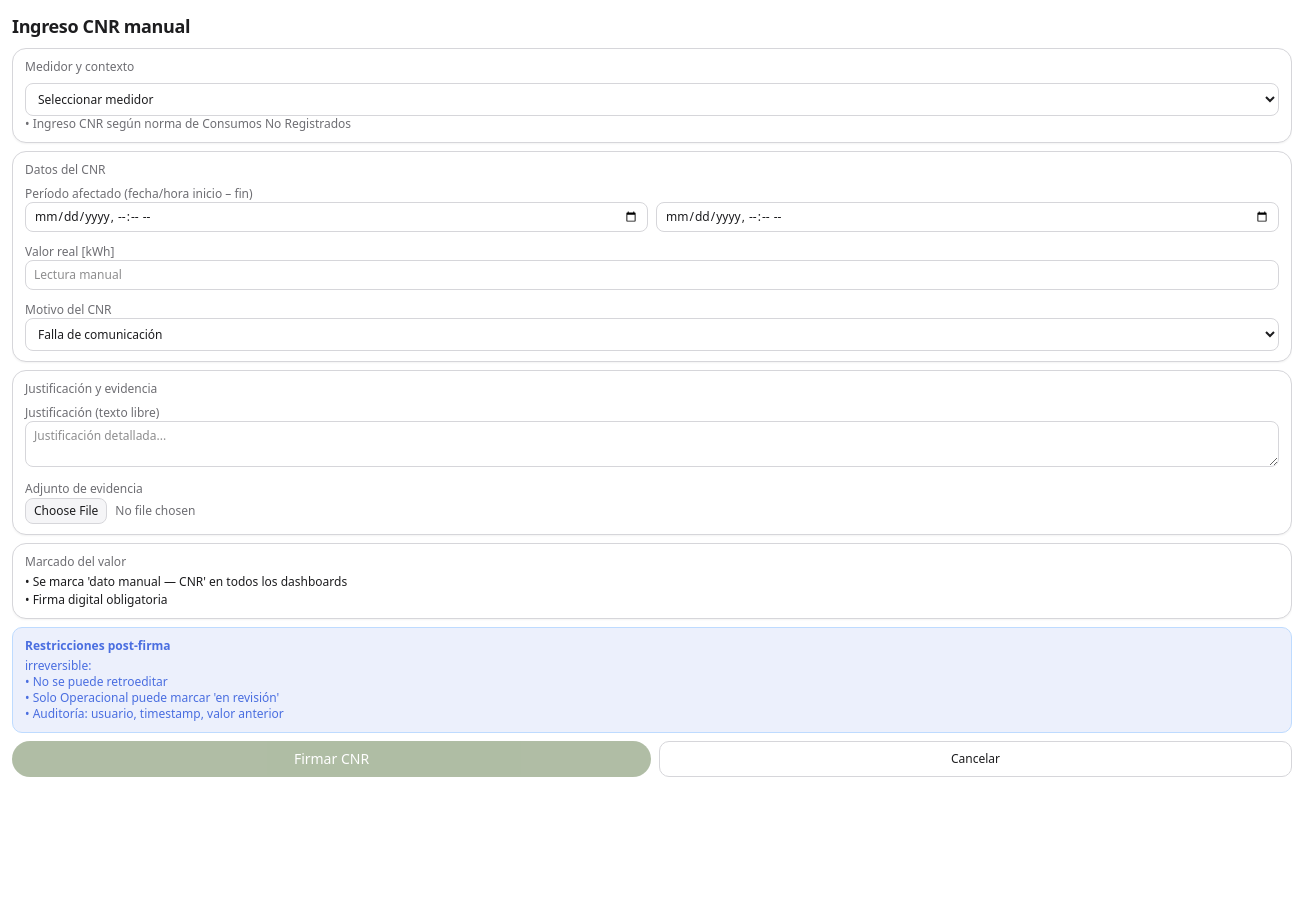
Scenario: IngresoCnrPage › submit › clears form after submit (button disabled again)
This screenshot has width=1304, height=912.
Step 1. Select "P1 — Mall Norte" in the dropdown below "Medidor y contexto" → (652, 100), box [25,83,1279,116]
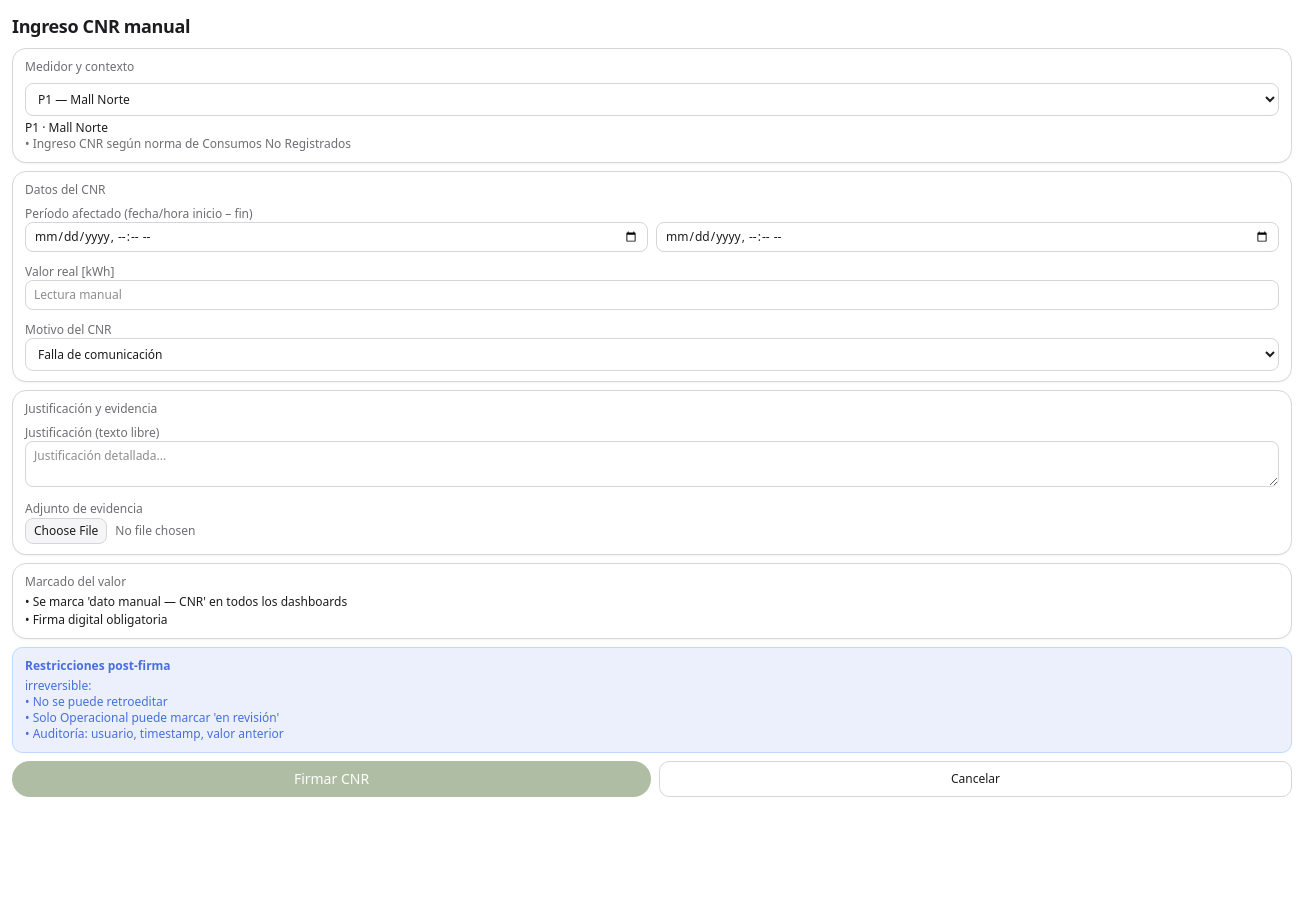
Step 2. Type "2026-06-20T08:00" into the 1st field → (336, 237), box [25,222,648,252]
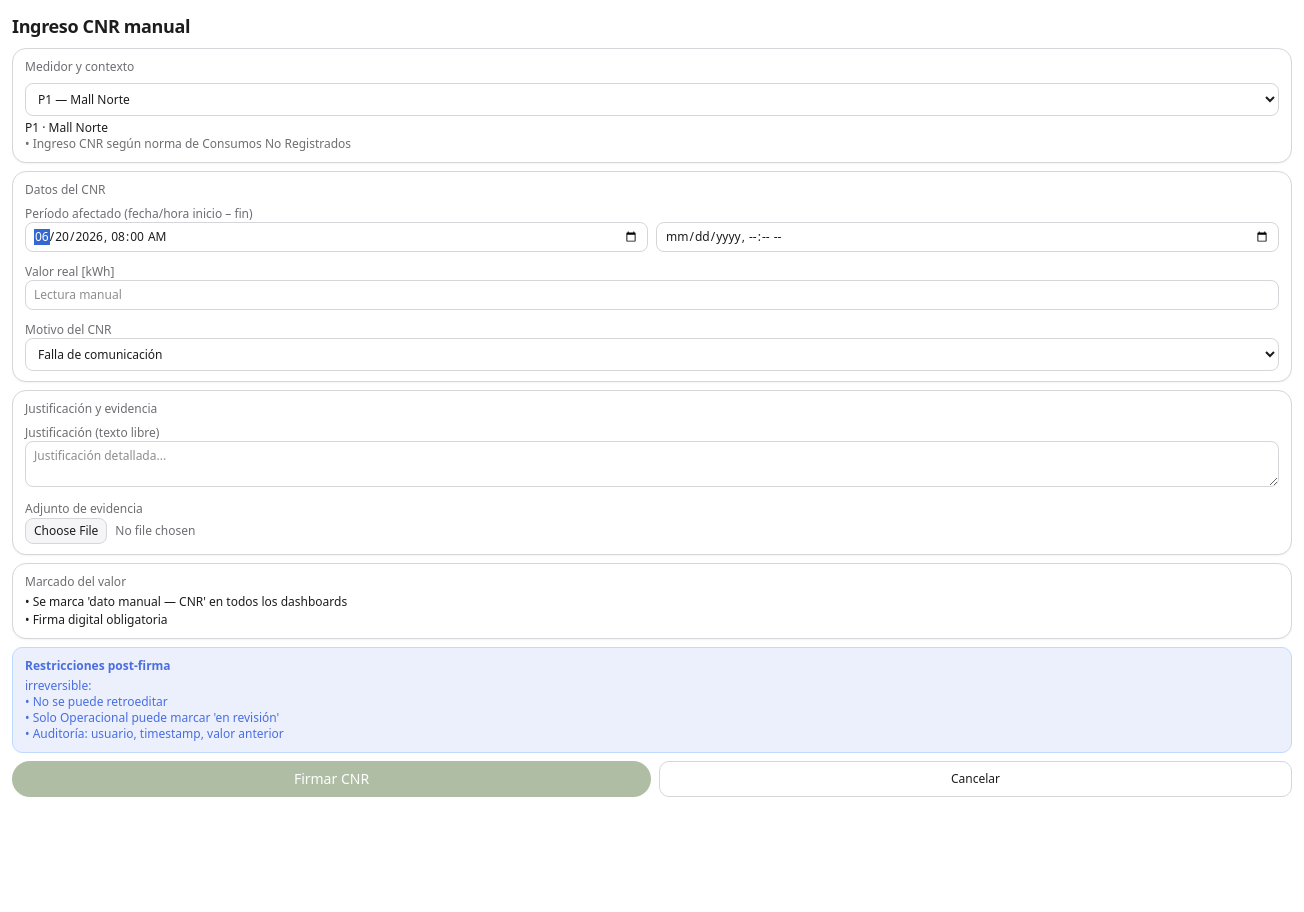
Step 3. Type "2026-06-22T08:00" into the 2nd field → (968, 237), box [656,222,1279,252]
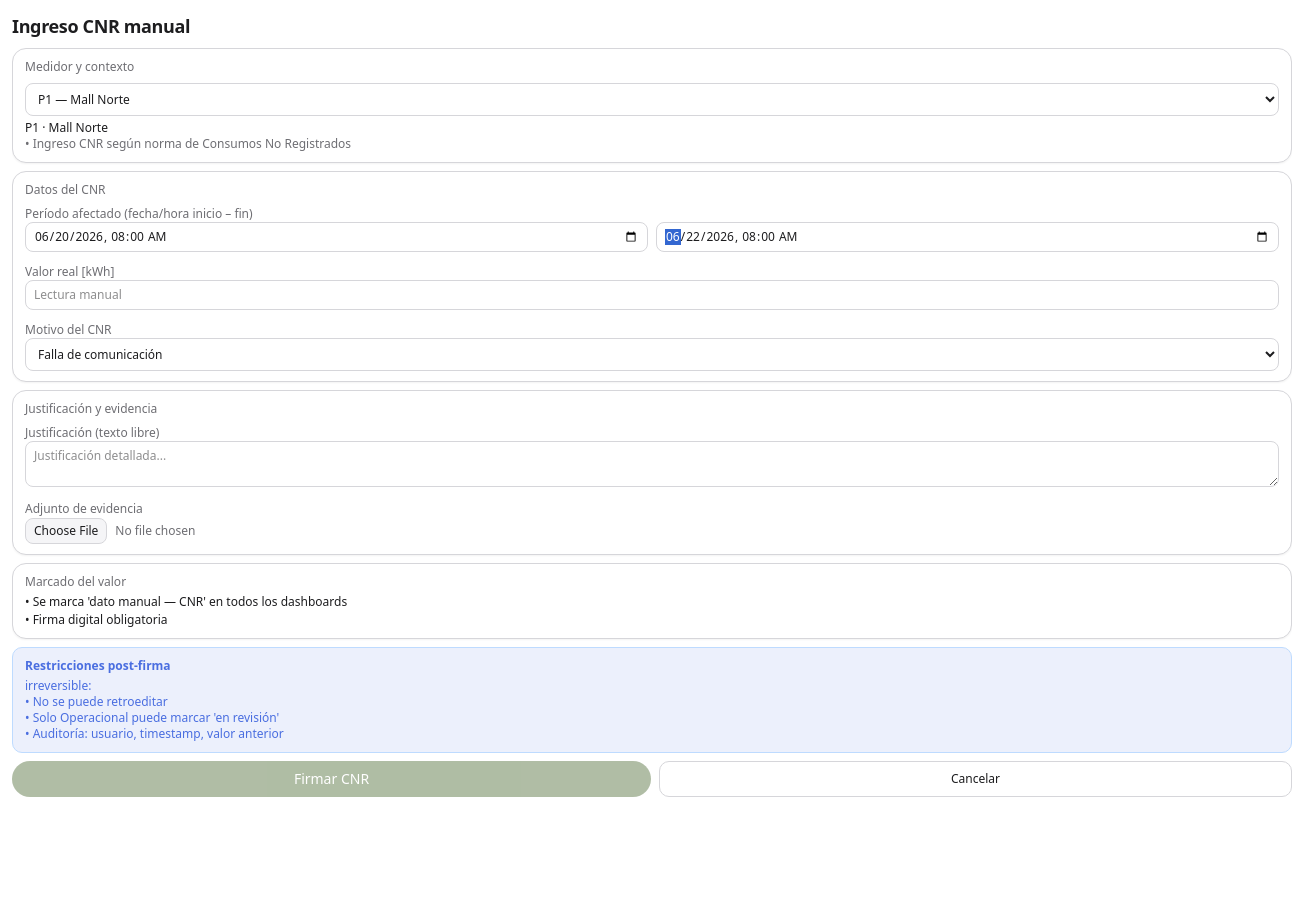
Step 4. Type "150" into the number field with placeholder "Lectura manual" → (652, 295), box [25,280,1279,310]
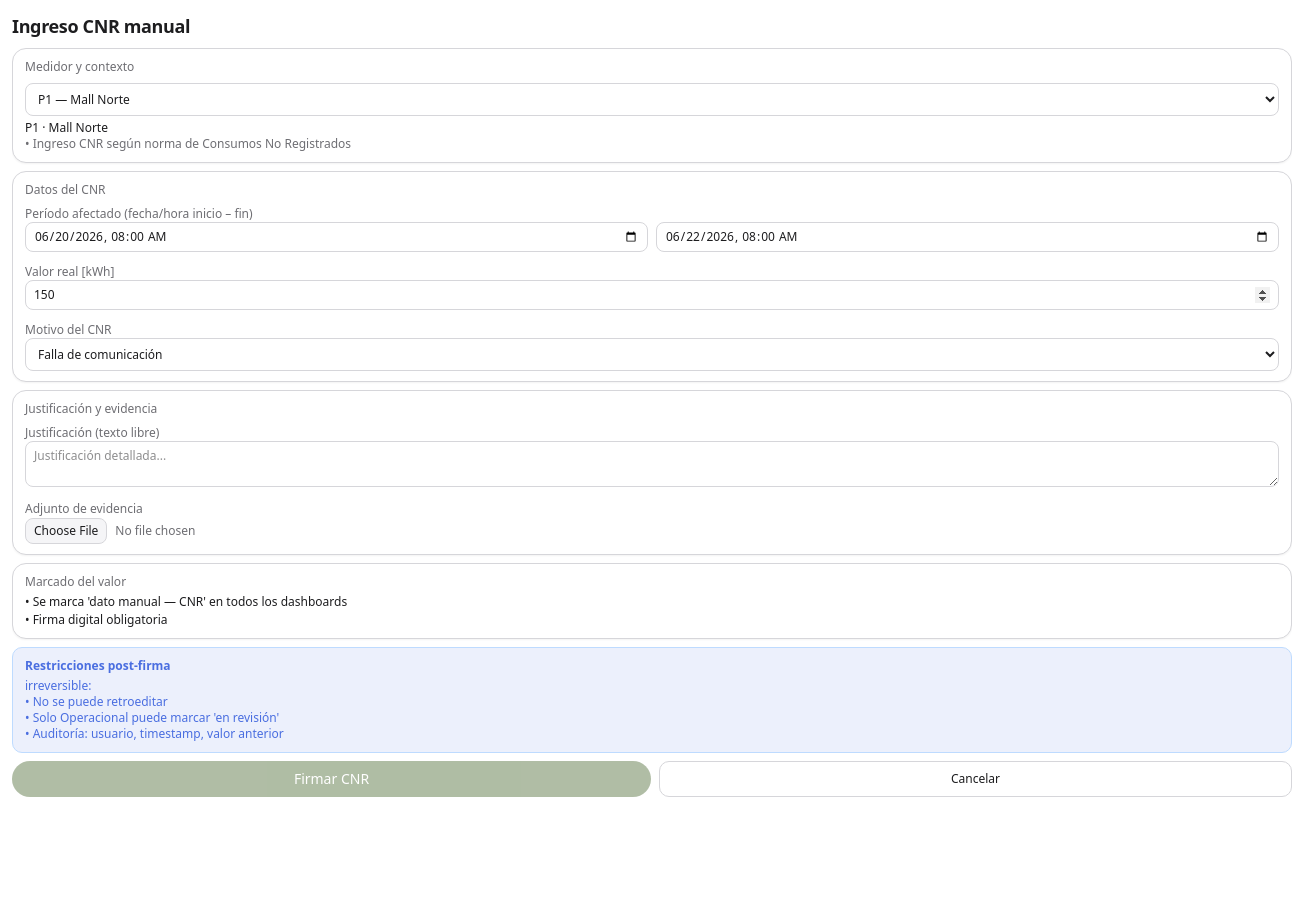
Step 5. Type "Falla comunicación del medidor durante mantenimiento programado en terreno" into the text box with placeholder "Justificación detallada..." → (652, 464), box [25,441,1279,487]
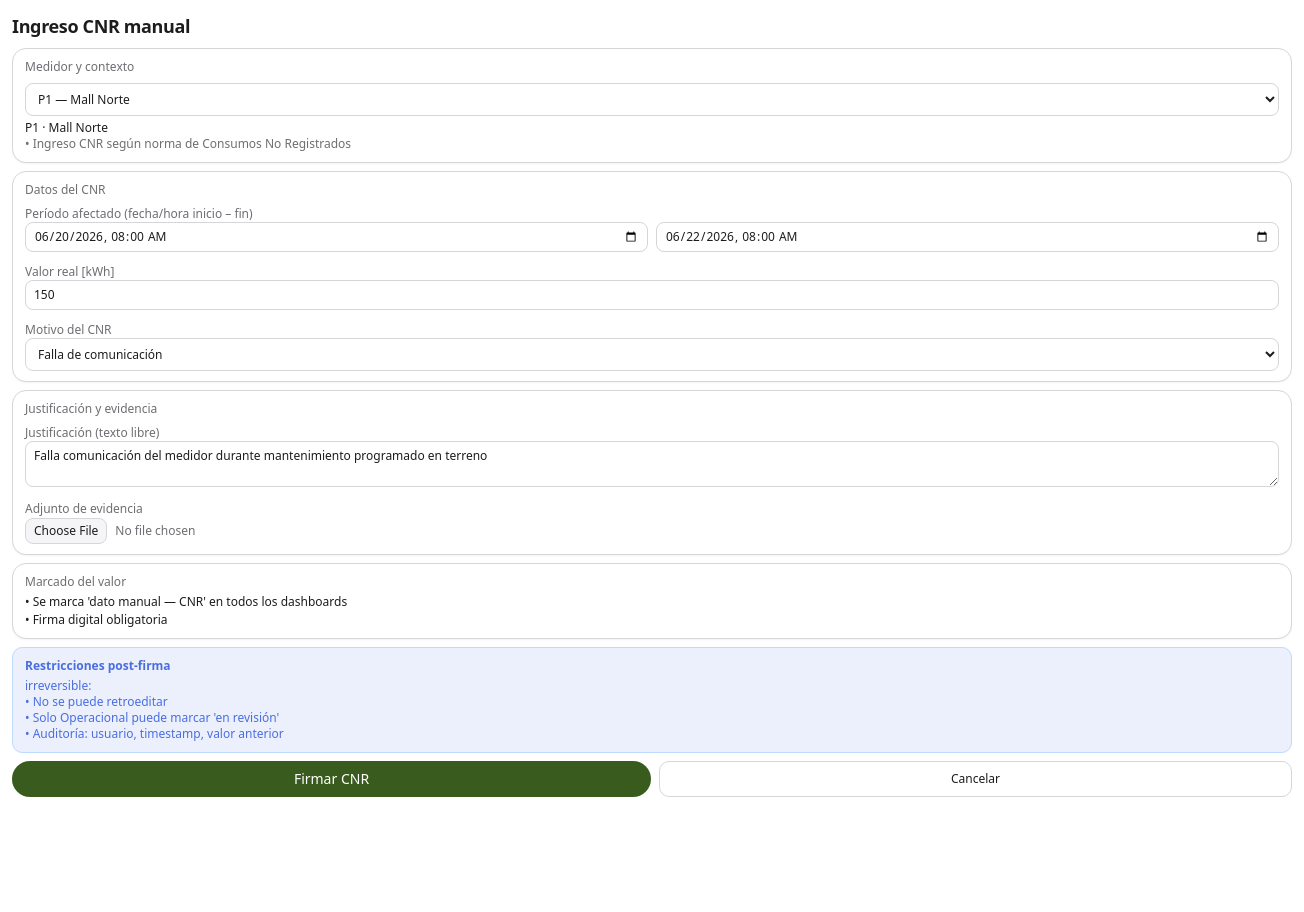
Step 6. Click the button "Firmar CNR" → (332, 779), box [12,761,651,797]
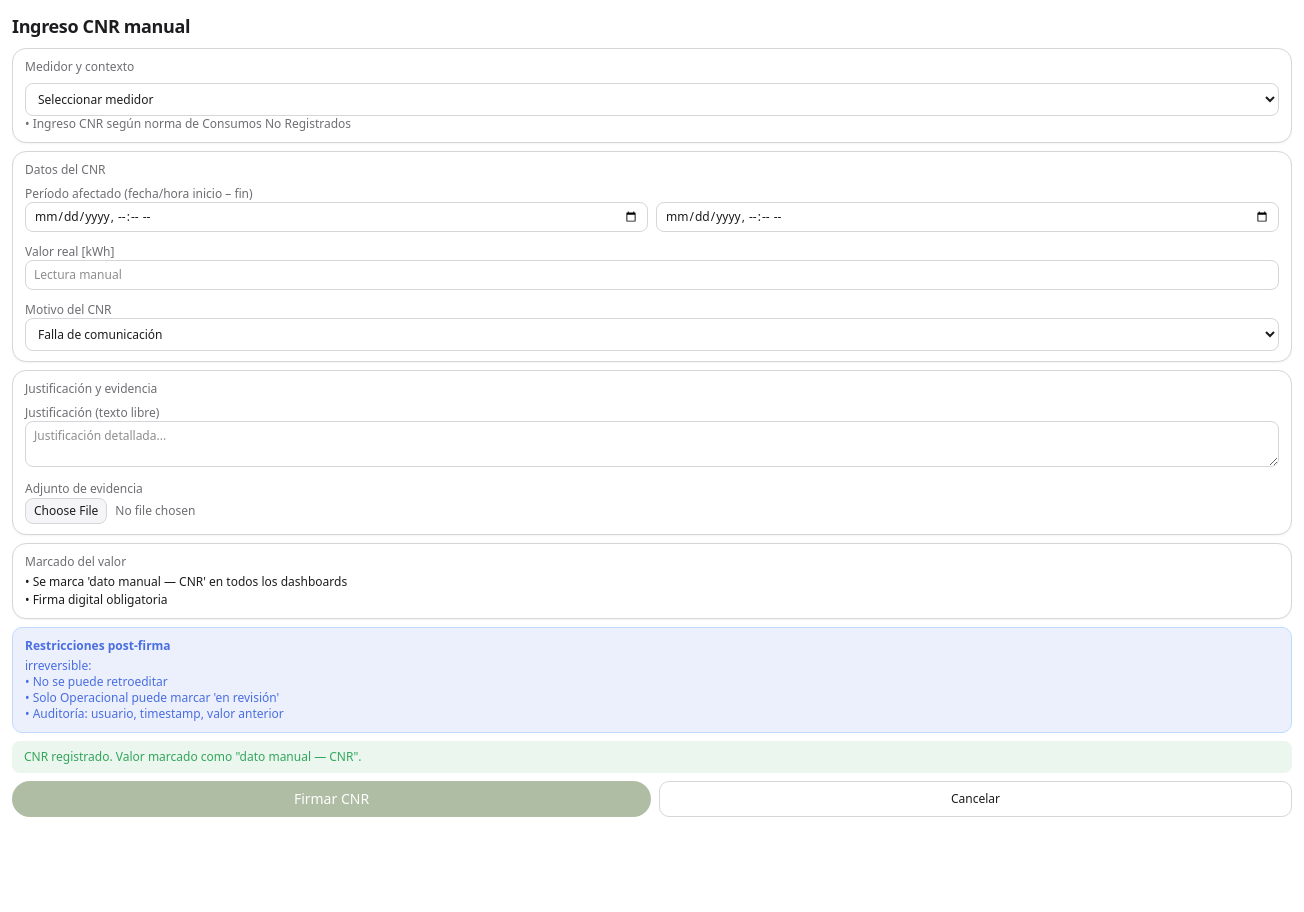
Expected: the button "Firmar CNR" is disabled, [12,781,651,817]
